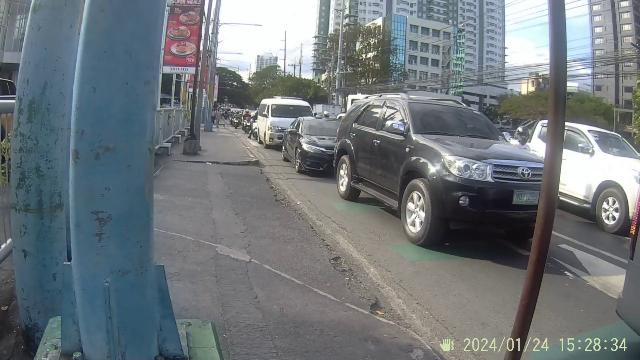car: (342, 85, 552, 253), (256, 96, 346, 172)
utility_post: (16, 12, 192, 352), (182, 1, 218, 158)
